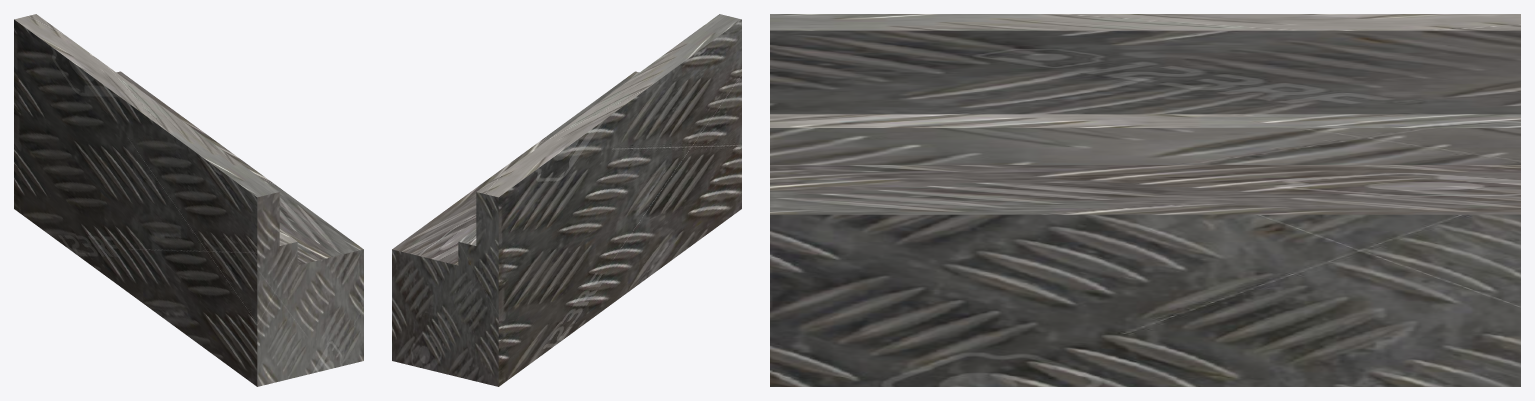
Rendered from mesa.obj.
The picture shows the model from 3 angles, left to right: view 1: azimuth 30°, elevation 25°; view 2: azimuth 150°, elevation 25°; view 3: azimuth 270°, elevation 25°; orthographic projection. The views are drawn at different scales.
Visible parts, largest first — view 1: Cube; view 2: Cube; view 3: Cube.
Boxes of the visible parts, bbox=[...] form: Cube: bbox=[14, 14, 363, 386]; Cube: bbox=[392, 14, 741, 386]; Cube: bbox=[770, 14, 1520, 386].
Bounding box in the file's own units: 2 × 3.4 × 7.9.
